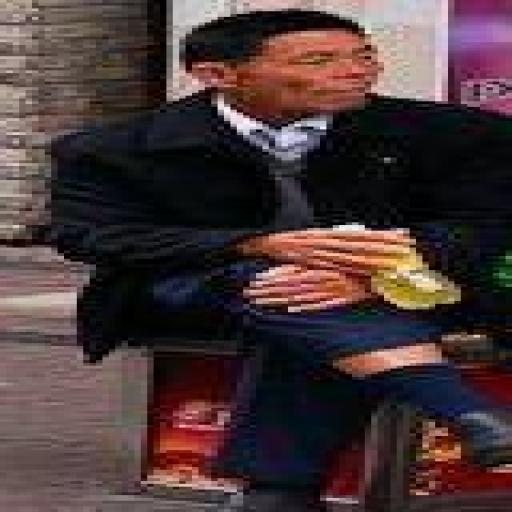person: (52, 9, 511, 511)
